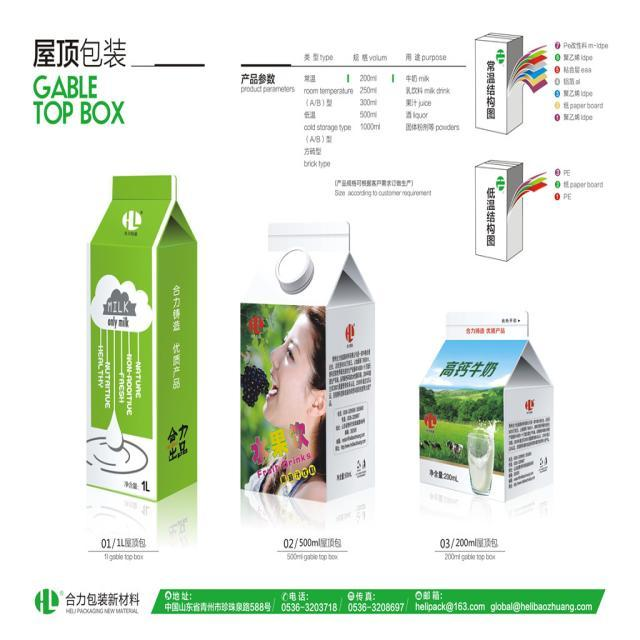Carton: (76, 149, 212, 511), (241, 200, 386, 509), (411, 302, 562, 514)
